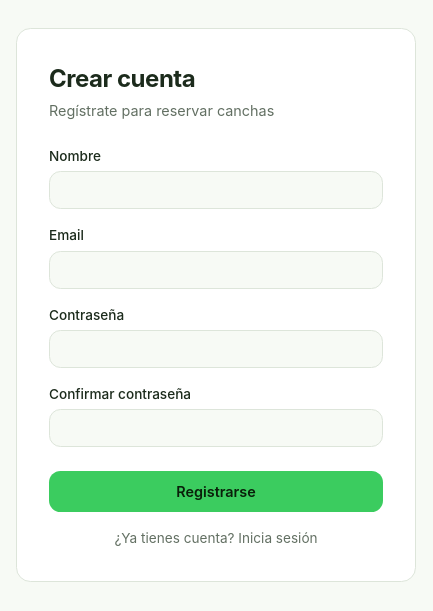
RegisterPage › shows error on password mismatch
This screenshot has width=433, height=611.
In the field labelled "Nombre": (216, 190) x1=49 y1=171 x2=383 y2=209, type "Test"
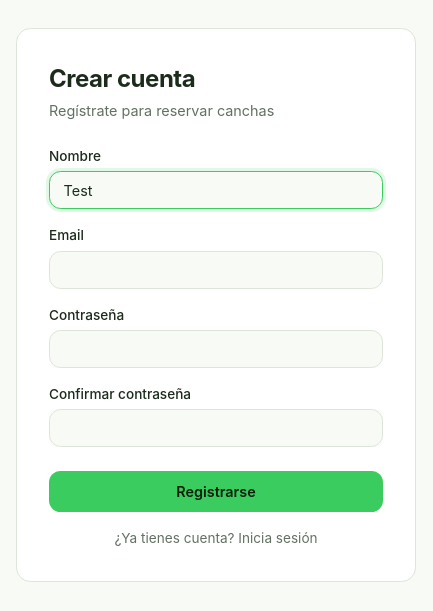
In the field labelled "Email": (216, 270) x1=49 y1=250 x2=383 y2=289, type "test@test.com"
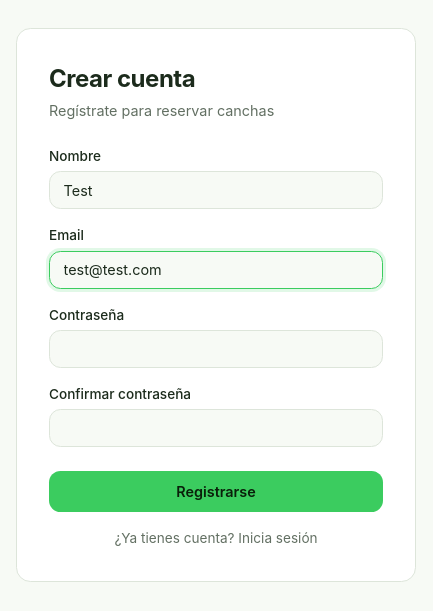
In the password field labelled "Contraseña": (216, 349) x1=49 y1=330 x2=383 y2=368, type "pass123"
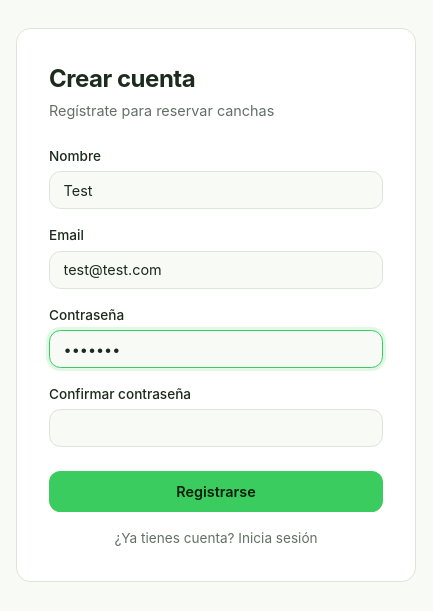
In the password field labelled "Confirmar contraseña": (216, 428) x1=49 y1=409 x2=383 y2=448, type "different"
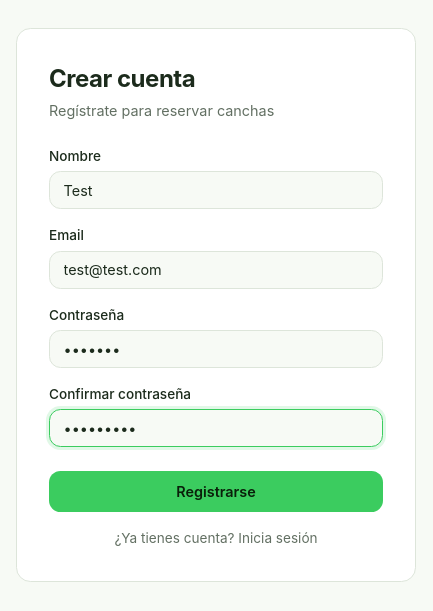
Click the button "Registrarse": (216, 492) x1=49 y1=472 x2=383 y2=512
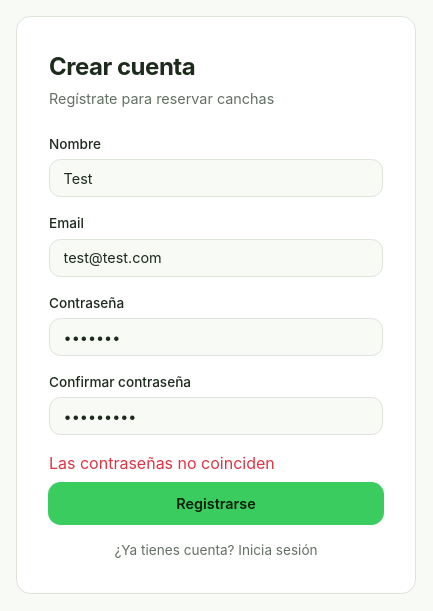
Expected: the text "Las contraseñas no coinciden" is shown, x1=49 y1=454 x2=275 y2=474
